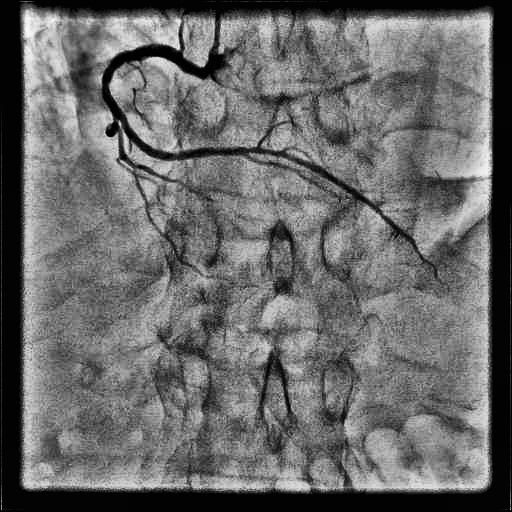pborca: (247, 147, 436, 269)
pda: (245, 153, 328, 192)
rca: (102, 44, 244, 160)
